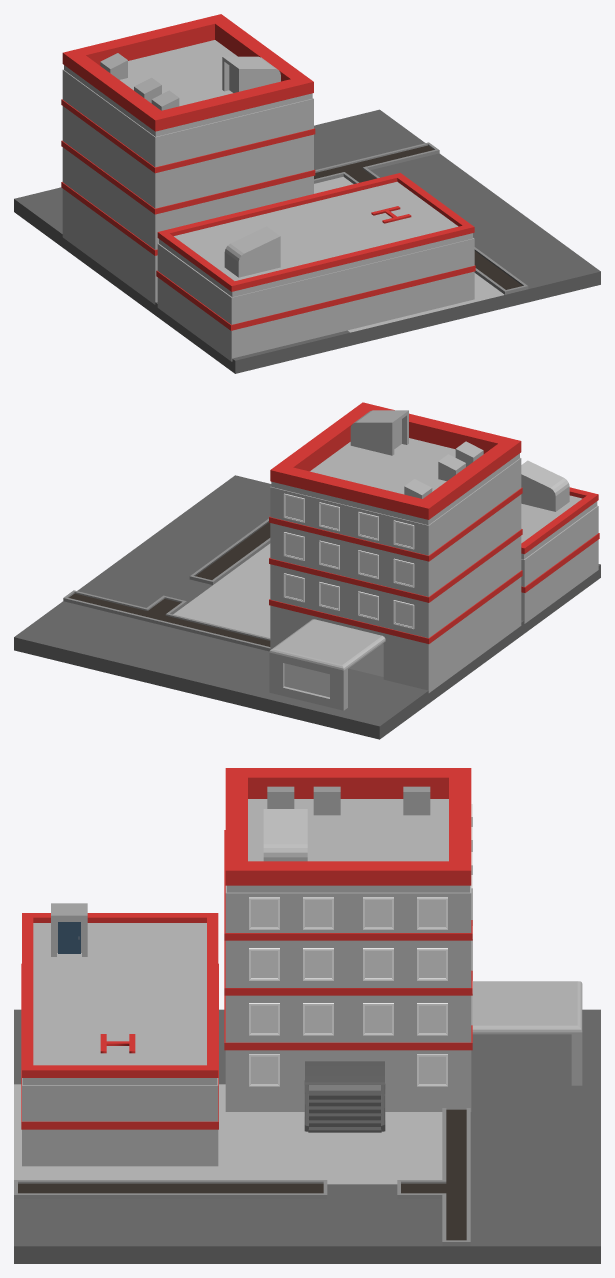
The model's file is Hospital.fbx.
3 views of the same model, one above another, from view 1: azimuth 30°, elevation 25°; view 2: azimuth 150°, elevation 25°; view 3: azimuth 270°, elevation 25° (orthographic). The views are drawn at different scales.
Parts seen in each view (by area): view 1: first case, second case, yard, door upstairs.001, door upstairs, ventilation; view 2: first case, yard, second case, door upstairs, door upstairs.001, ventilation, polySurface51, polySurface49, polySurface53, polySurface47, polySurface55, polySurface45 (+6 smaller); view 3: yard, first case, second case, stairs, door upstairs, ventilation, door upstairs.001, polySurface40, polySurface39, polySurface38, polySurface37, polySurface36 (+9 smaller).
Boxes of the visible parts, bbox=[...] form: first case: bbox=[61, 14, 315, 304]; second case: bbox=[156, 173, 475, 361]; yard: bbox=[14, 109, 600, 373]; door upstairs.001: bbox=[224, 226, 280, 277]; door upstairs: bbox=[222, 56, 280, 92]; ventilation: bbox=[100, 53, 179, 110]; first case: bbox=[269, 402, 522, 710]; yard: bbox=[14, 475, 600, 739]; second case: bbox=[521, 487, 599, 623]; door upstairs: bbox=[350, 410, 408, 455]; door upstairs.001: bbox=[521, 460, 569, 511]; ventilation: bbox=[404, 441, 483, 498]; polySurface51: bbox=[393, 600, 414, 629]; polySurface49: bbox=[283, 573, 304, 602]; polySurface53: bbox=[283, 493, 304, 522]; polySurface47: bbox=[393, 558, 414, 587]; polySurface55: bbox=[393, 520, 414, 549]; polySurface45: bbox=[283, 532, 304, 560]; yard: bbox=[14, 1009, 600, 1263]; first case: bbox=[224, 768, 582, 1111]; second case: bbox=[21, 913, 218, 1166]; stairs: bbox=[304, 1061, 385, 1132]; door upstairs: bbox=[263, 809, 307, 861]; ventilation: bbox=[267, 786, 430, 815]; door upstairs.001: bbox=[51, 903, 87, 956]; polySurface40: bbox=[417, 1054, 447, 1086]; polySurface39: bbox=[249, 1054, 279, 1086]; polySurface38: bbox=[417, 1003, 447, 1035]; polySurface37: bbox=[249, 1003, 279, 1035]; polySurface36: bbox=[363, 897, 393, 929].
Bounding box in the file's own units: 1406 × 776 × 1467.
